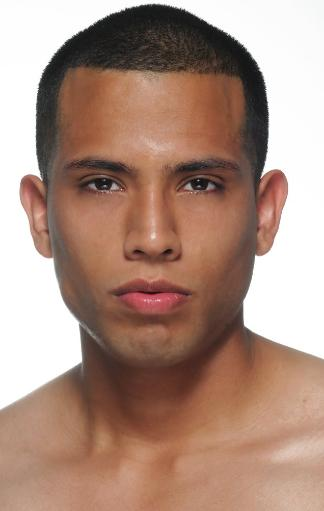left_eye: (176, 175, 229, 200)
left_lip_corner: (185, 288, 199, 305)
right_eye: (76, 175, 130, 200)
right_lip_corner: (107, 287, 121, 304)
